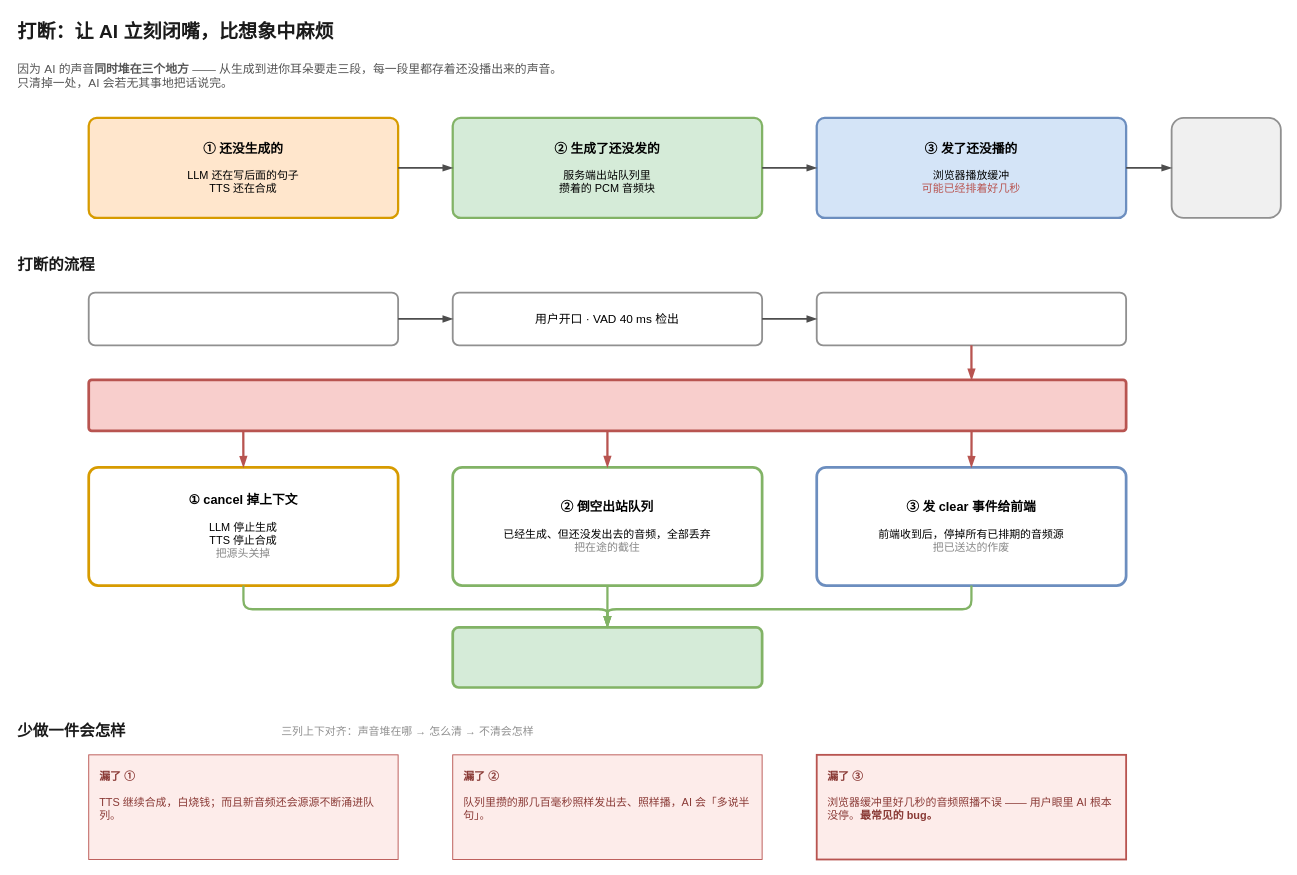
This 1297x875 diagram has some shape labels left out. Here are the shapes that lost their labels. From the top down, the centre of each, then its label:
At [1225,167]: "用户 听到".
At [243,318]: "AI 正在说话".
At [971,318]: "判定成立：VAD 有声 且 AI 正在出声".
At [607,405]: "⚡ 触发打断 —— 下面三件事必须一起做".
At [607,657]: "AI 立刻闭嘴 状态回到「在听」，等你说完这一句".
